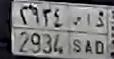2: (19, 5, 29, 54)
3: (43, 7, 53, 54)
4: (54, 7, 64, 55)
9: (29, 7, 42, 55)
A: (85, 12, 93, 55)
D: (94, 16, 105, 56)
S: (72, 14, 83, 54)
